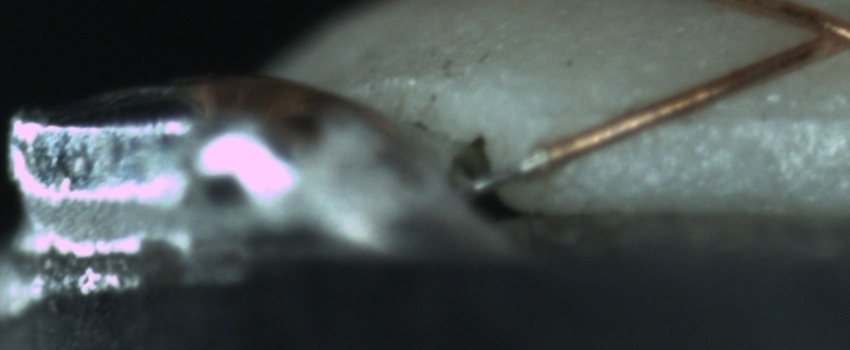CL: (792, 5, 850, 61)
DL: (561, 85, 848, 147)
TS: (469, 148, 553, 194)
TTCW: (463, 143, 560, 195)
